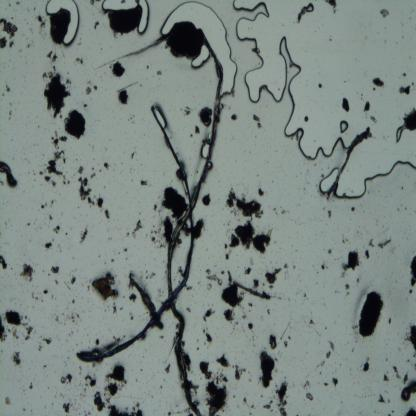Air bubble: (227, 0, 301, 127), (157, 0, 242, 101), (282, 94, 347, 178), (346, 155, 416, 198), (47, 0, 84, 48), (318, 165, 340, 196), (136, 0, 153, 37), (189, 42, 209, 69), (101, 0, 137, 13), (296, 1, 313, 22), (396, 122, 407, 144), (155, 107, 166, 128), (200, 142, 210, 160), (339, 119, 349, 133), (304, 115, 310, 122)
Background material: (96, 32, 165, 69), (199, 353, 229, 416), (93, 364, 128, 412), (226, 219, 274, 254), (354, 290, 383, 338), (42, 72, 72, 118), (100, 5, 140, 37), (227, 186, 264, 220), (0, 308, 34, 342), (39, 149, 70, 186), (160, 185, 190, 218), (89, 270, 122, 297), (64, 108, 89, 140), (234, 282, 272, 303), (258, 350, 276, 388), (221, 282, 245, 307), (0, 18, 18, 49), (341, 250, 361, 275), (275, 379, 288, 416), (107, 403, 142, 416), (159, 215, 173, 245), (404, 320, 416, 351), (400, 380, 416, 403), (20, 262, 36, 284), (199, 104, 214, 127), (77, 177, 91, 201), (404, 102, 416, 129), (265, 266, 283, 284), (50, 130, 67, 148), (180, 346, 192, 370), (116, 80, 138, 93), (132, 217, 144, 238), (409, 253, 416, 287), (194, 219, 205, 240), (280, 320, 291, 340), (78, 228, 90, 246), (112, 63, 126, 78), (322, 0, 338, 13), (267, 332, 278, 350), (234, 365, 246, 381), (10, 351, 22, 367), (262, 399, 275, 413), (202, 307, 215, 321), (36, 15, 46, 32), (398, 83, 411, 96), (250, 114, 262, 128), (201, 194, 212, 209), (207, 274, 222, 285), (47, 48, 59, 61), (118, 90, 129, 104), (393, 364, 402, 381), (225, 307, 234, 323), (403, 405, 416, 416), (181, 223, 192, 236), (362, 356, 370, 373), (62, 400, 71, 415), (176, 406, 191, 415), (86, 374, 98, 385), (378, 7, 390, 18), (373, 76, 385, 87), (173, 166, 183, 179), (225, 268, 233, 284), (342, 95, 349, 113), (379, 239, 393, 248), (62, 374, 72, 386), (96, 195, 104, 210), (402, 369, 410, 384), (0, 254, 7, 270), (190, 383, 200, 394), (52, 224, 61, 236), (302, 380, 312, 390), (42, 336, 52, 346), (376, 394, 386, 404), (139, 177, 149, 187), (154, 68, 164, 78), (127, 294, 138, 303), (364, 244, 370, 260), (183, 104, 191, 116), (127, 114, 136, 124), (252, 277, 260, 288), (332, 376, 339, 388), (103, 208, 110, 220), (305, 392, 314, 401), (50, 265, 59, 274), (92, 20, 101, 29), (62, 281, 70, 291), (86, 196, 94, 206), (244, 266, 252, 276), (164, 364, 172, 374), (230, 111, 238, 121), (150, 233, 157, 244), (384, 372, 390, 384), (103, 161, 111, 170), (370, 114, 378, 123), (368, 236, 374, 248), (206, 333, 212, 345), (364, 101, 370, 113), (257, 188, 265, 197), (84, 86, 92, 95), (178, 264, 184, 276), (148, 272, 158, 279), (91, 0, 104, 5), (194, 122, 199, 135), (326, 210, 334, 218), (40, 200, 47, 209), (322, 259, 327, 271), (4, 82, 10, 92), (44, 242, 52, 249), (65, 78, 72, 86), (158, 242, 166, 249), (326, 348, 331, 359), (70, 314, 76, 323), (284, 271, 290, 280), (5, 396, 11, 405), (57, 243, 62, 253), (411, 349, 416, 359), (76, 57, 83, 64), (70, 277, 76, 285), (350, 204, 356, 212), (272, 207, 278, 215), (78, 166, 84, 174), (248, 322, 254, 330), (152, 203, 158, 211), (8, 108, 12, 120), (206, 284, 212, 292), (49, 199, 55, 207), (129, 312, 134, 321), (330, 342, 335, 351), (241, 313, 247, 320), (316, 82, 322, 89), (125, 231, 131, 238), (83, 382, 89, 389), (206, 268, 212, 275), (158, 333, 164, 340), (333, 288, 340, 294), (302, 291, 308, 298), (282, 263, 289, 269), (327, 248, 332, 256), (56, 314, 60, 324), (388, 316, 392, 326), (53, 278, 58, 286), (242, 397, 247, 405), (30, 290, 35, 298), (28, 381, 33, 389), (42, 288, 48, 294), (344, 284, 350, 290), (90, 173, 96, 179), (320, 360, 326, 366), (309, 319, 315, 325), (112, 305, 116, 314), (94, 338, 100, 344), (38, 344, 44, 350), (90, 143, 95, 150), (187, 285, 192, 292), (93, 84, 98, 91), (266, 308, 271, 315), (268, 285, 275, 290), (3, 220, 7, 228), (295, 133, 299, 141), (384, 389, 390, 394), (370, 86, 376, 91), (246, 377, 252, 382), (247, 302, 253, 307), (351, 324, 357, 329), (402, 72, 407, 78), (284, 341, 289, 347), (49, 294, 54, 300), (186, 307, 191, 313), (122, 247, 127, 253), (24, 43, 30, 48), (281, 209, 287, 214), (83, 102, 88, 108), (92, 361, 96, 368), (187, 412, 194, 416), (53, 65, 57, 72), (226, 253, 230, 260), (341, 238, 346, 243), (328, 37, 333, 42), (106, 237, 111, 242), (345, 292, 350, 297), (60, 392, 64, 398), (167, 412, 173, 416), (87, 284, 90, 292), (408, 288, 412, 294), (398, 346, 402, 352), (130, 153, 134, 159), (134, 150, 138, 156), (387, 398, 391, 404), (119, 305, 123, 311), (250, 404, 256, 408), (224, 242, 228, 248), (1, 92, 5, 98), (76, 313, 80, 319), (220, 270, 226, 274), (413, 362, 416, 369), (251, 334, 254, 341), (118, 0, 125, 3), (356, 278, 360, 283), (66, 356, 70, 361), (319, 370, 323, 375), (292, 264, 296, 269), (262, 345, 266, 350), (274, 358, 278, 363), (406, 359, 411, 363), (108, 65, 112, 70), (324, 382, 328, 387), (159, 384, 163, 389), (87, 80, 92, 84), (275, 367, 278, 373), (50, 215, 53, 221), (43, 364, 47, 368), (34, 297, 38, 301), (81, 283, 85, 287), (79, 382, 83, 386), (274, 384, 278, 388), (320, 174, 324, 178), (82, 394, 86, 398), (98, 168, 102, 172), (10, 16, 14, 20), (18, 48, 22, 52), (8, 3, 12, 7), (401, 185, 404, 190), (72, 299, 75, 304), (163, 378, 166, 383), (262, 282, 265, 287), (117, 250, 120, 255), (235, 321, 238, 326), (360, 363, 363, 368), (288, 335, 291, 340), (203, 328, 206, 333), (139, 83, 142, 88), (190, 134, 193, 138), (42, 269, 45, 273), (51, 402, 54, 406), (140, 366, 142, 372), (103, 185, 106, 189), (129, 168, 132, 172), (98, 254, 101, 258), (0, 350, 3, 354), (138, 212, 141, 216), (387, 413, 391, 416), (23, 408, 26, 412), (70, 331, 74, 334), (232, 395, 236, 398), (75, 322, 78, 326), (91, 166, 94, 170), (373, 410, 376, 414), (88, 412, 91, 416), (33, 172, 36, 176), (150, 230, 153, 234), (80, 393, 82, 398), (80, 366, 82, 371), (386, 357, 388, 362), (155, 230, 157, 235), (69, 271, 71, 276), (341, 400, 343, 405), (15, 2, 20, 4), (10, 101, 12, 106), (79, 372, 82, 375), (131, 179, 134, 182), (318, 381, 321, 384), (232, 327, 235, 330), (40, 335, 43, 338), (10, 267, 13, 270), (65, 232, 68, 235), (260, 395, 263, 398), (232, 365, 235, 368), (196, 347, 199, 350), (75, 343, 78, 346), (316, 271, 319, 274), (317, 364, 320, 367), (84, 413, 87, 416), (135, 379, 138, 382), (33, 143, 36, 146), (71, 403, 73, 407), (325, 326, 327, 330), (32, 305, 34, 309), (112, 258, 114, 262), (288, 298, 290, 302), (75, 268, 77, 272), (28, 28, 32, 30), (352, 348, 354, 352), (147, 65, 149, 69), (60, 115, 62, 119), (28, 170, 30, 174), (68, 334, 71, 336), (63, 323, 66, 325), (23, 389, 25, 392), (62, 312, 64, 315), (100, 75, 102, 78), (120, 162, 123, 164), (81, 296, 83, 299), (197, 339, 199, 342), (73, 174, 76, 176), (41, 299, 43, 302), (104, 262, 106, 265), (34, 8, 36, 11), (75, 158, 78, 160), (249, 413, 252, 415), (142, 355, 144, 358), (334, 361, 336, 364), (86, 334, 89, 336), (296, 414, 299, 416), (338, 412, 340, 415), (28, 160, 30, 163), (315, 282, 318, 284), (253, 344, 255, 347), (74, 398, 77, 400), (32, 170, 35, 172), (28, 223, 30, 226), (27, 9, 29, 12), (340, 364, 342, 366), (330, 365, 332, 367), (48, 274, 50, 276), (84, 411, 86, 413), (35, 156, 37, 158), (74, 402, 76, 404), (93, 158, 95, 160), (48, 387, 50, 389), (34, 180, 36, 182), (364, 395, 366, 397), (42, 154, 44, 156), (67, 307, 68, 310), (45, 406, 46, 409), (73, 257, 74, 260), (31, 409, 32, 412), (27, 23, 29, 24), (284, 377, 286, 378), (152, 396, 153, 398)
Cellulose filter fibre: (130, 25, 225, 416), (326, 127, 371, 199), (127, 271, 164, 330), (0, 161, 17, 188)
Cotton: (78, 104, 195, 362)
